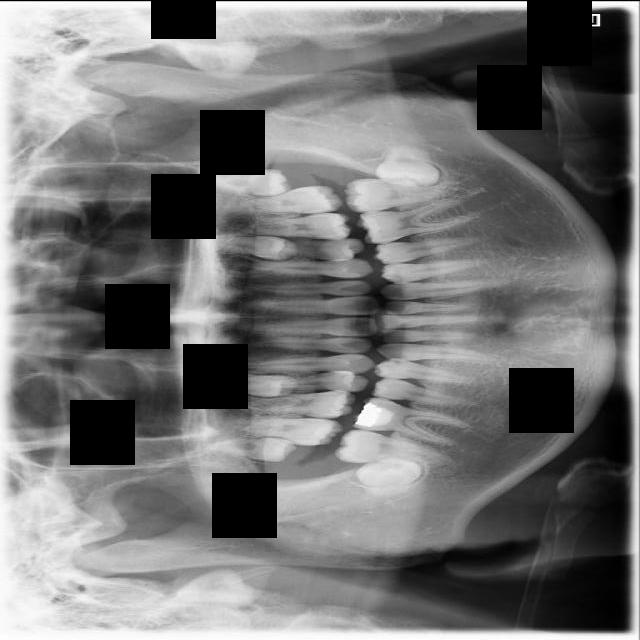3M ESPE Implant: (198, 437, 299, 461)
52: (350, 389, 409, 442)
73: (557, 28, 571, 31)
BioHorizons Implant: (223, 183, 343, 219)
BioLife Implant: (204, 167, 292, 199)
Biomet 3i Implant: (375, 144, 442, 186)
Blue Sky Bio Implant: (342, 175, 450, 218)
Caries: (211, 409, 345, 447)
Implant: (334, 427, 447, 467)
Keystone Dental Implant: (354, 454, 424, 499)
